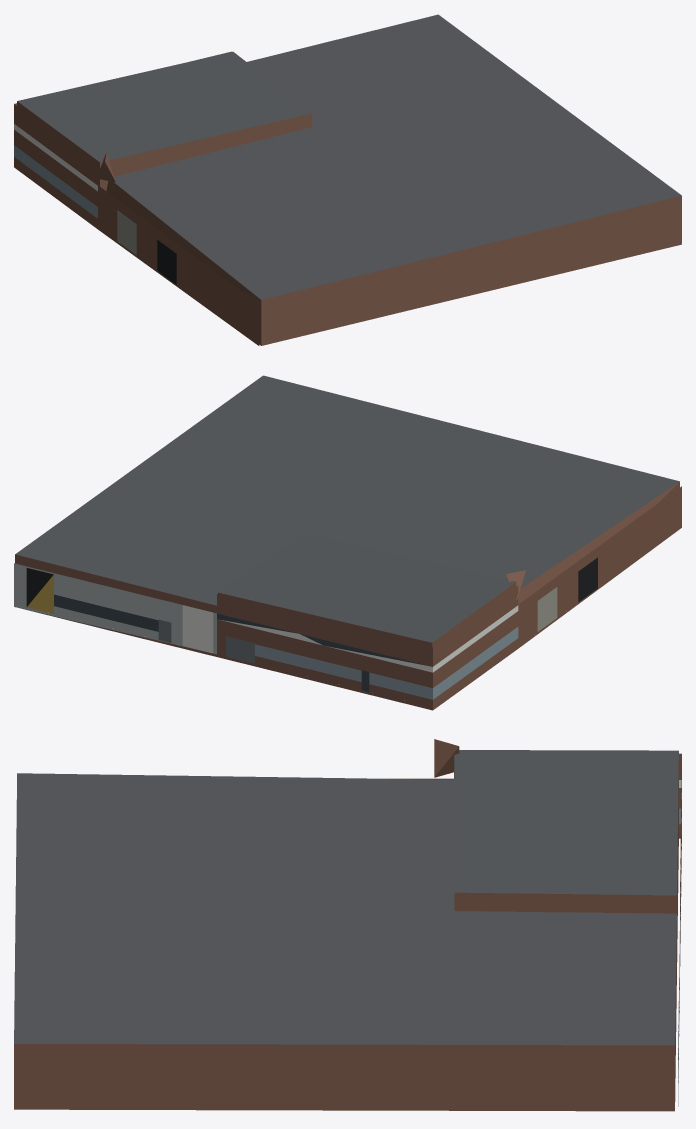
The model's file is club-raum.lod2.glb.
3 views of the same model, one above another, from view 1: azimuth 30°, elevation 25°; view 2: azimuth 150°, elevation 25°; view 3: azimuth 270°, elevation 25° (orthographic). The views are drawn at different scales.
Visible parts, largest first — view 1: lod2; view 2: lod2; view 3: lod2.
Part boxes in pixels (left/top/right/bottom): lod2: left=14, top=14, right=681, bottom=345; lod2: left=14, top=375, right=681, bottom=710; lod2: left=14, top=739, right=681, bottom=1111.
Bounding box in the file's own units: 49.66 × 8.25 × 50.48.
